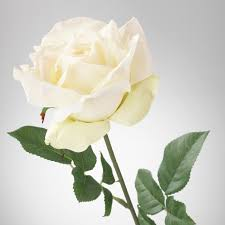lale: (18, 11, 194, 225)
